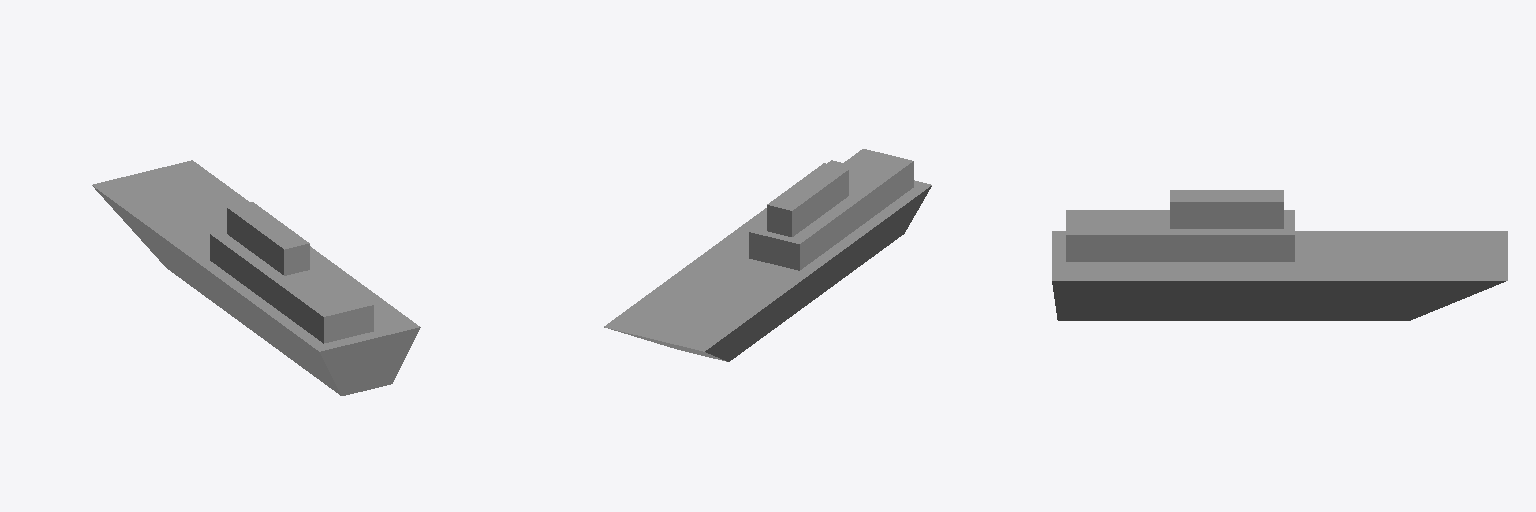
Rendered from ship.obj.
3 renders of one model, left to right at view 1: azimuth 30°, elevation 25°; view 2: azimuth 150°, elevation 25°; view 3: azimuth 270°, elevation 25°, orthographic.
Parts seen in each view (by area): view 1: Plane; view 2: Plane; view 3: Plane.
Part boxes in pixels (left/top/right/bottom): Plane: left=92, top=160, right=420, bottom=395; Plane: left=604, top=149, right=931, bottom=361; Plane: left=1052, top=190, right=1507, bottom=320.
Size of the model in its own units: 2 by 2 by 7.8.